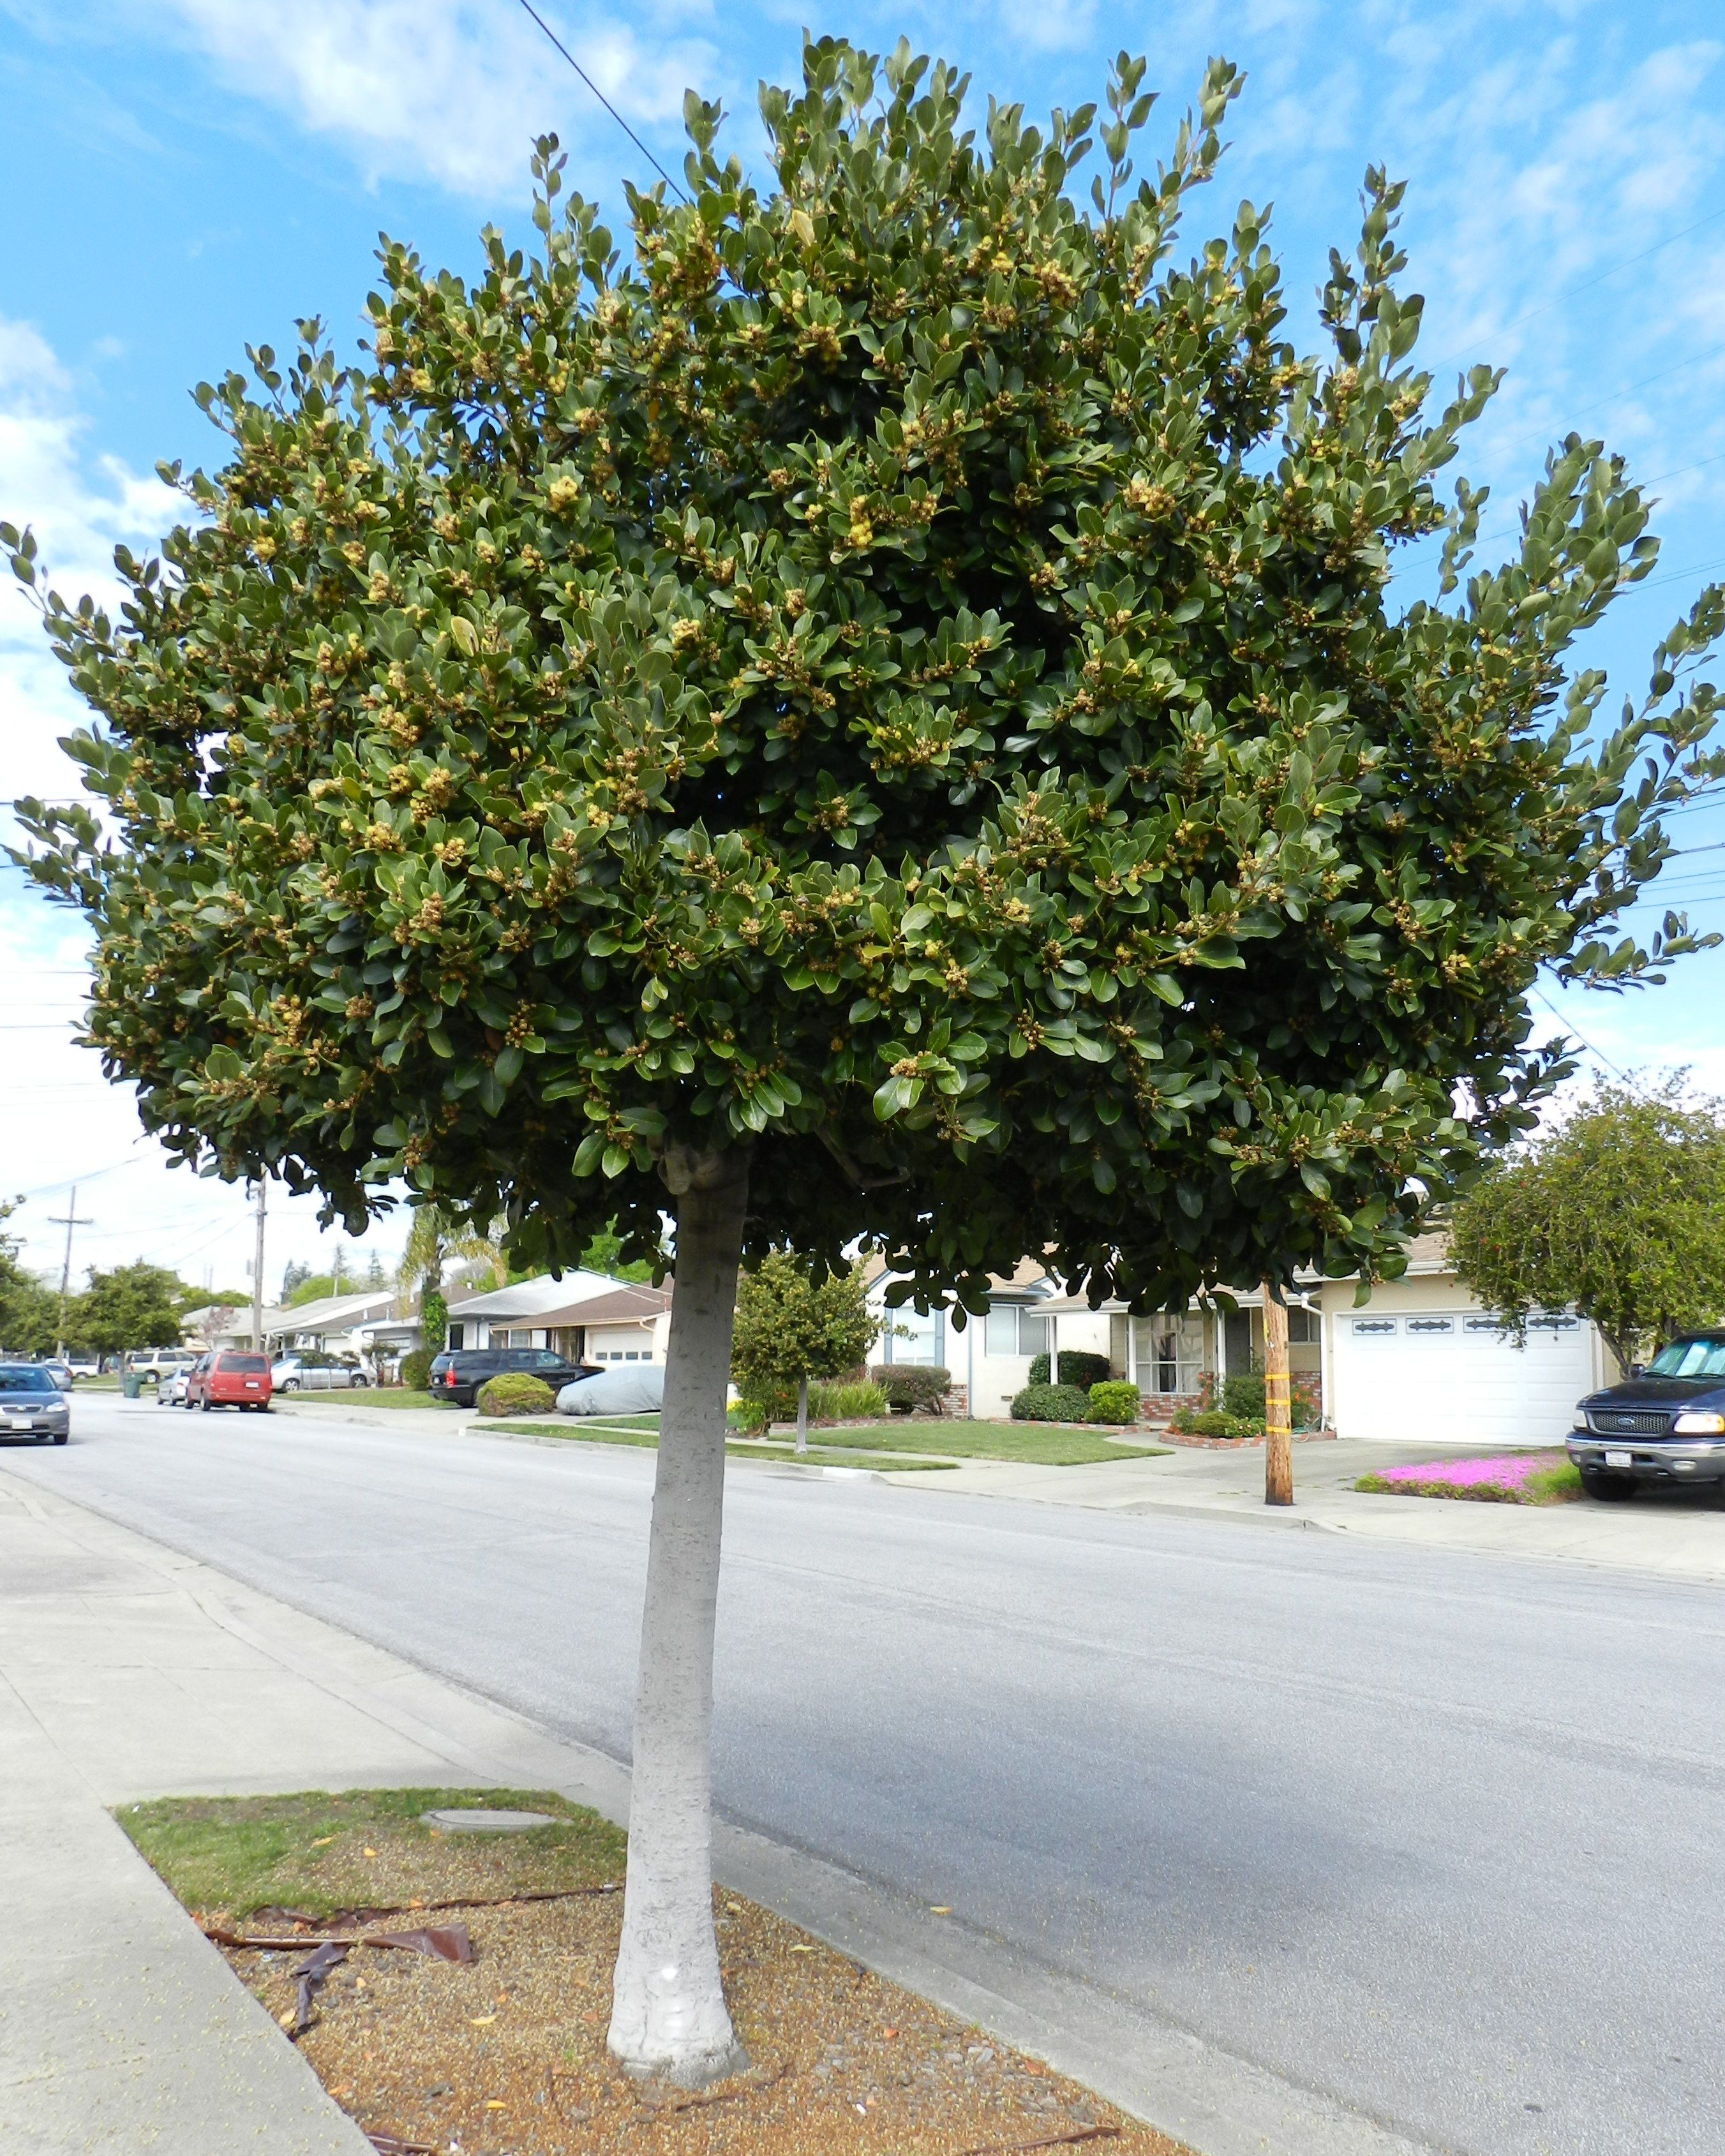tree: (0, 25, 1725, 2087)
